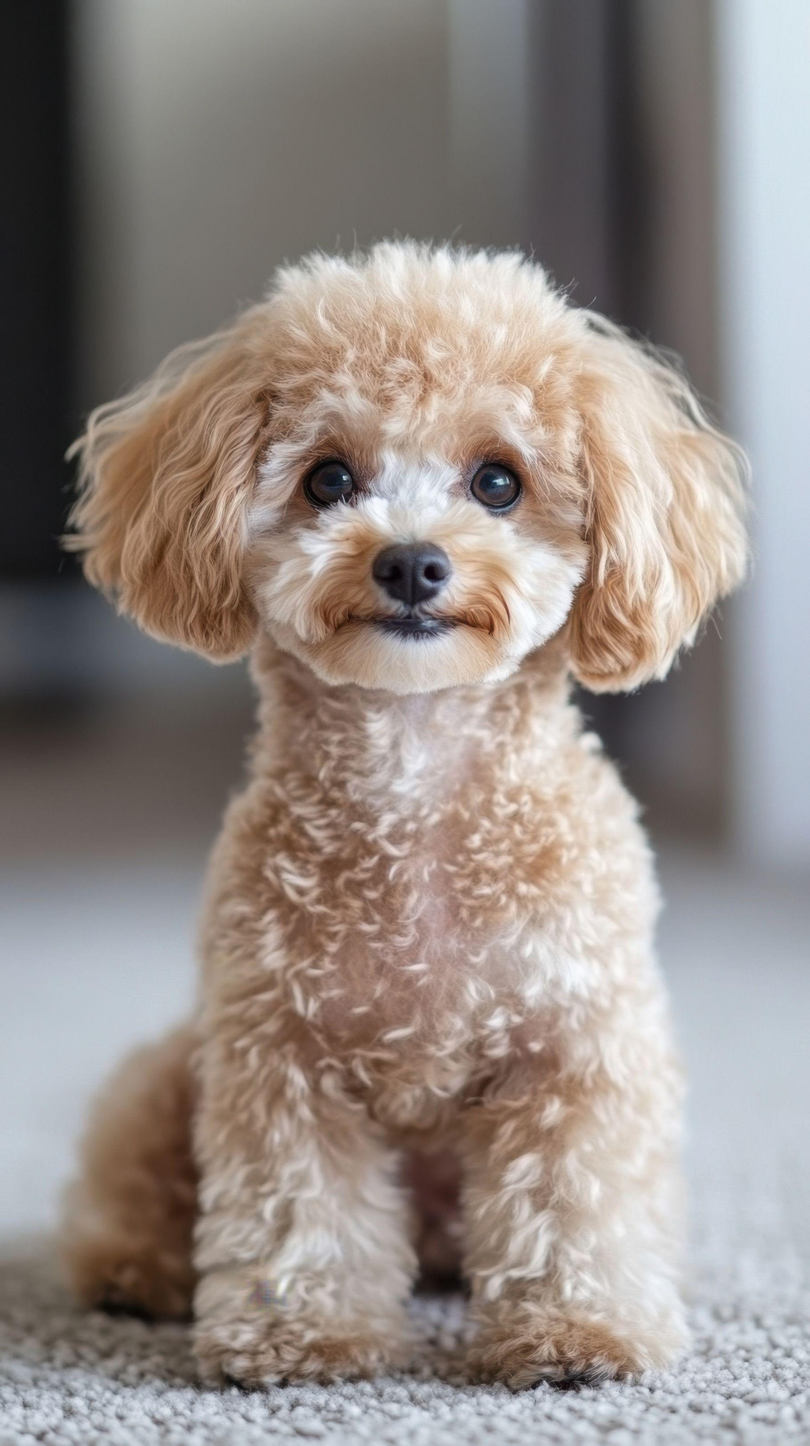adult_dog: (52, 236, 757, 1393)
